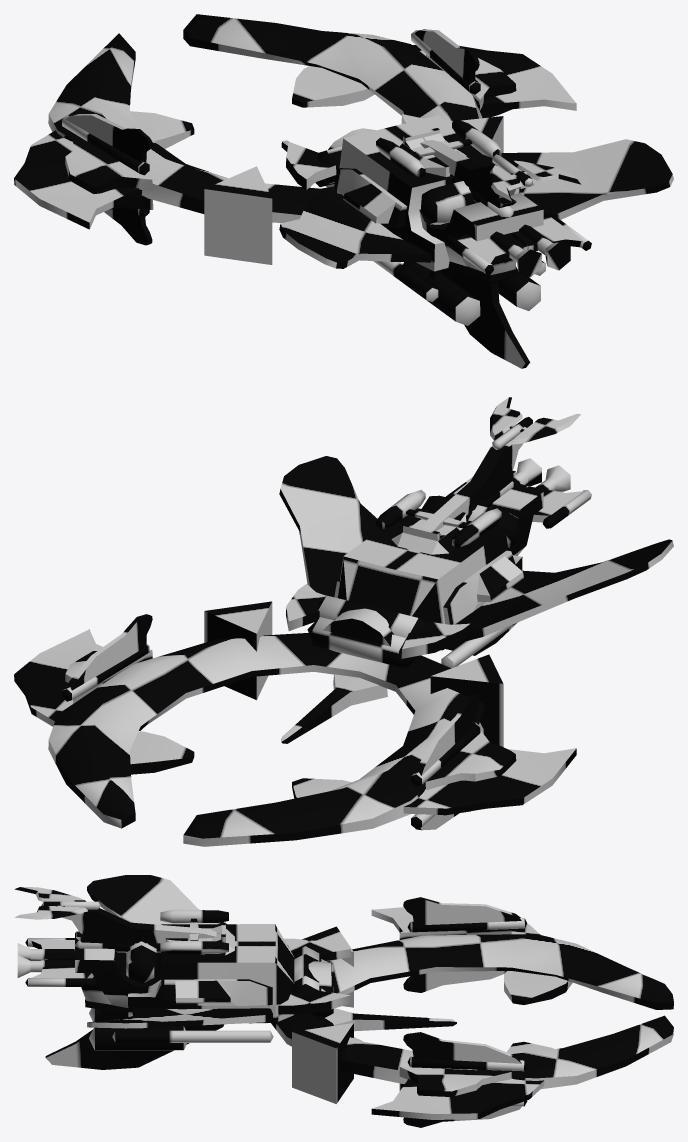
The model's file is goliath_x.obj.
3 views of the same model, one above another, from view 1: azimuth 30°, elevation 25°; view 2: azimuth 150°, elevation 25°; view 3: azimuth 270°, elevation 25° (orthographic). The views are drawn at different scales.
Visible parts, largest first — view 1: goliath_x_design_legend_lowpoly; view 2: goliath_x_design_legend_lowpoly; view 3: goliath_x_design_legend_lowpoly.
Part boxes in pixels (x1,y1,x2,y2): goliath_x_design_legend_lowpoly: (14,14,673,368); goliath_x_design_legend_lowpoly: (14,397,673,846); goliath_x_design_legend_lowpoly: (14,875,673,1127).
Size of the model in its own units: 106 by 39.85 by 142.
Materials: 1 (1 with a texture image).
